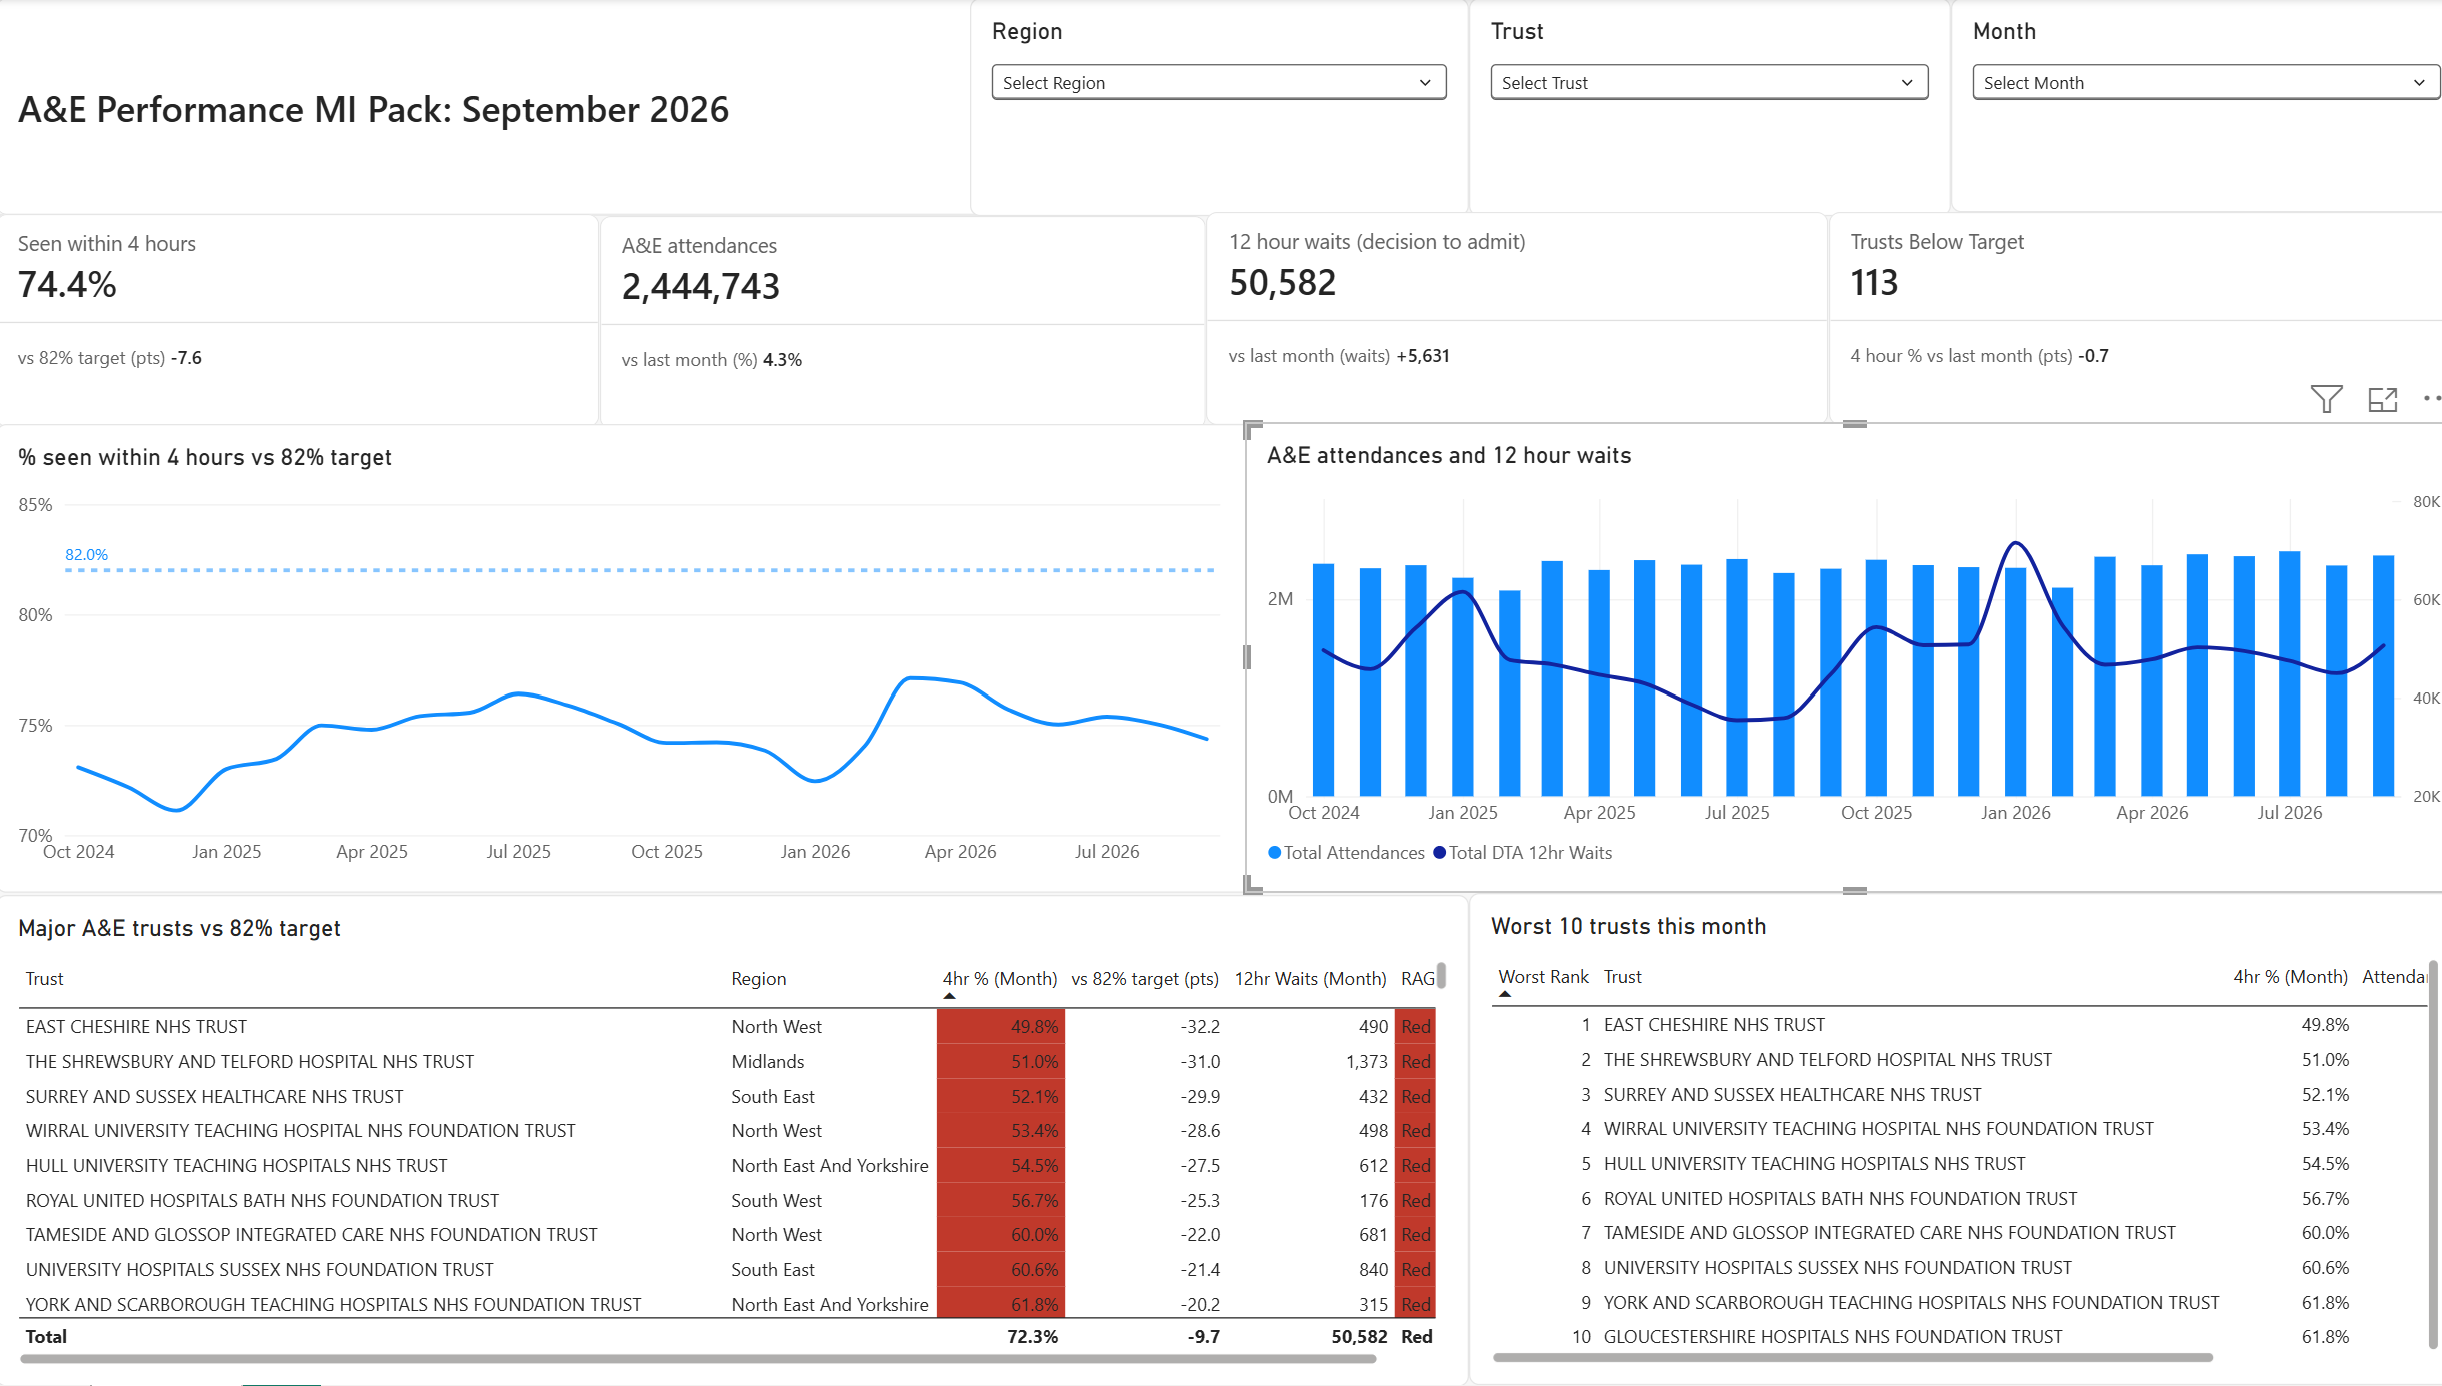

What the dashboard file says about the page in this screenshot:
{"tool":"powerbi","page":{"name":"Page 1","canvas":[1920,1080],"ordinal":0},"visuals":[{"type":"cardVisual","fields":{"Data":["AE Monthly.Report Month Title"]},"box":[0,0,769.9,169.9],"z":0},{"type":"listSlicer","fields":{"Values":["AE Monthly.Region"]},"box":[759,0,388.1,169.9],"z":1000},{"type":"listSlicer","fields":{"Values":["AE Monthly.Trust"]},"box":[1147,0,375.6,169.9],"z":2000},{"type":"listSlicer","fields":{"Values":["AE Monthly.Month.Variation.Date Hierarchy.Year"]},"box":[1522.6,0,399,166.8],"z":3000},{"type":"cardVisual","fields":{"Data":["AE Monthly.4hr % (Month)"]},"box":[0,168.3,470.6,166.8],"z":4000},{"type":"cardVisual","fields":{"Data":["AE Monthly.Attendances Card"]},"box":[470.6,169.9,472.2,166.8],"z":5000},{"type":"cardVisual","fields":{"Data":["AE Monthly.Trusts Below Target"]},"box":[1427.3,166.2,494.7,166.2],"z":6000},{"type":"cardVisual","fields":{"Data":["AE Monthly.12hr Waits Card"]},"box":[942.4,166.2,484.9,166.2],"z":7000},{"type":"lineChart","title":"% seen within 4 hours vs 82% target","fields":{"Category":["AE Monthly.Month.Variation.Date Hierarchy.Month"],"Y":["AE Monthly.4hr %"]},"box":[0,331.9,986.5,364.7],"z":8000},{"type":"lineClusteredColumnComboChart","title":"A&E attendances and 12 hour waits","fields":{"Category":["AE Monthly.Month.Variation.Date Hierarchy.Month"],"Y":["AE Monthly.Total Attendances"],"Y2":["AE Monthly.Total DTA 12hr Waits"]},"box":[971.9,330.2,951.5,366],"z":9000},{"type":"tableEx","title":"Major A&E trusts vs 82% target","fields":{"Values":["AE Monthly.Trust","AE Monthly.Region","AE Monthly.4hr % (Month)","AE Monthly.Gap to Target pts","AE Monthly.12hr Waits (Month)","AE Monthly.RAG Status"]},"box":[0,698.2,1147.2,383],"z":10000},{"type":"tableEx","title":"Worst 10 trusts this month","fields":{"Values":["AE Monthly.Worst Rank","AE Monthly.Trust","AE Monthly.4hr % (Month)","AE Monthly.Attendances (Month)","AE Monthly.12hr Waits (Month)"]},"box":[1147,696.6,773,383.4],"z":11000}]}

Visuals, with their boxes in screenshot pixels (x1, y1, x2, y2), scaled from the page's 1920x1080 canvas onto the 2442x1386 screenshot:
cardVisual - AE Monthly.Report Month Title: 0 0 979 218
listSlicer - AE Monthly.Region: 965 0 1459 218
listSlicer - AE Monthly.Trust: 1459 0 1937 218
listSlicer - AE Monthly.Month.Variation.Date Hierarchy.Year: 1937 0 2441 214
cardVisual - AE Monthly.4hr % (Month): 0 216 599 430
cardVisual - AE Monthly.Attendances Card: 599 218 1199 432
cardVisual - AE Monthly.Trusts Below Target: 1815 213 2441 427
cardVisual - AE Monthly.12hr Waits Card: 1199 213 1815 427
"% seen within 4 hours vs 82% target" lineChart: 0 426 1255 894
"A&E attendances and 12 hour waits" lineClusteredColumnComboChart: 1236 424 2441 893
"Major A&E trusts vs 82% target" tableEx: 0 896 1459 1385
"Worst 10 trusts this month" tableEx: 1459 894 2441 1385
